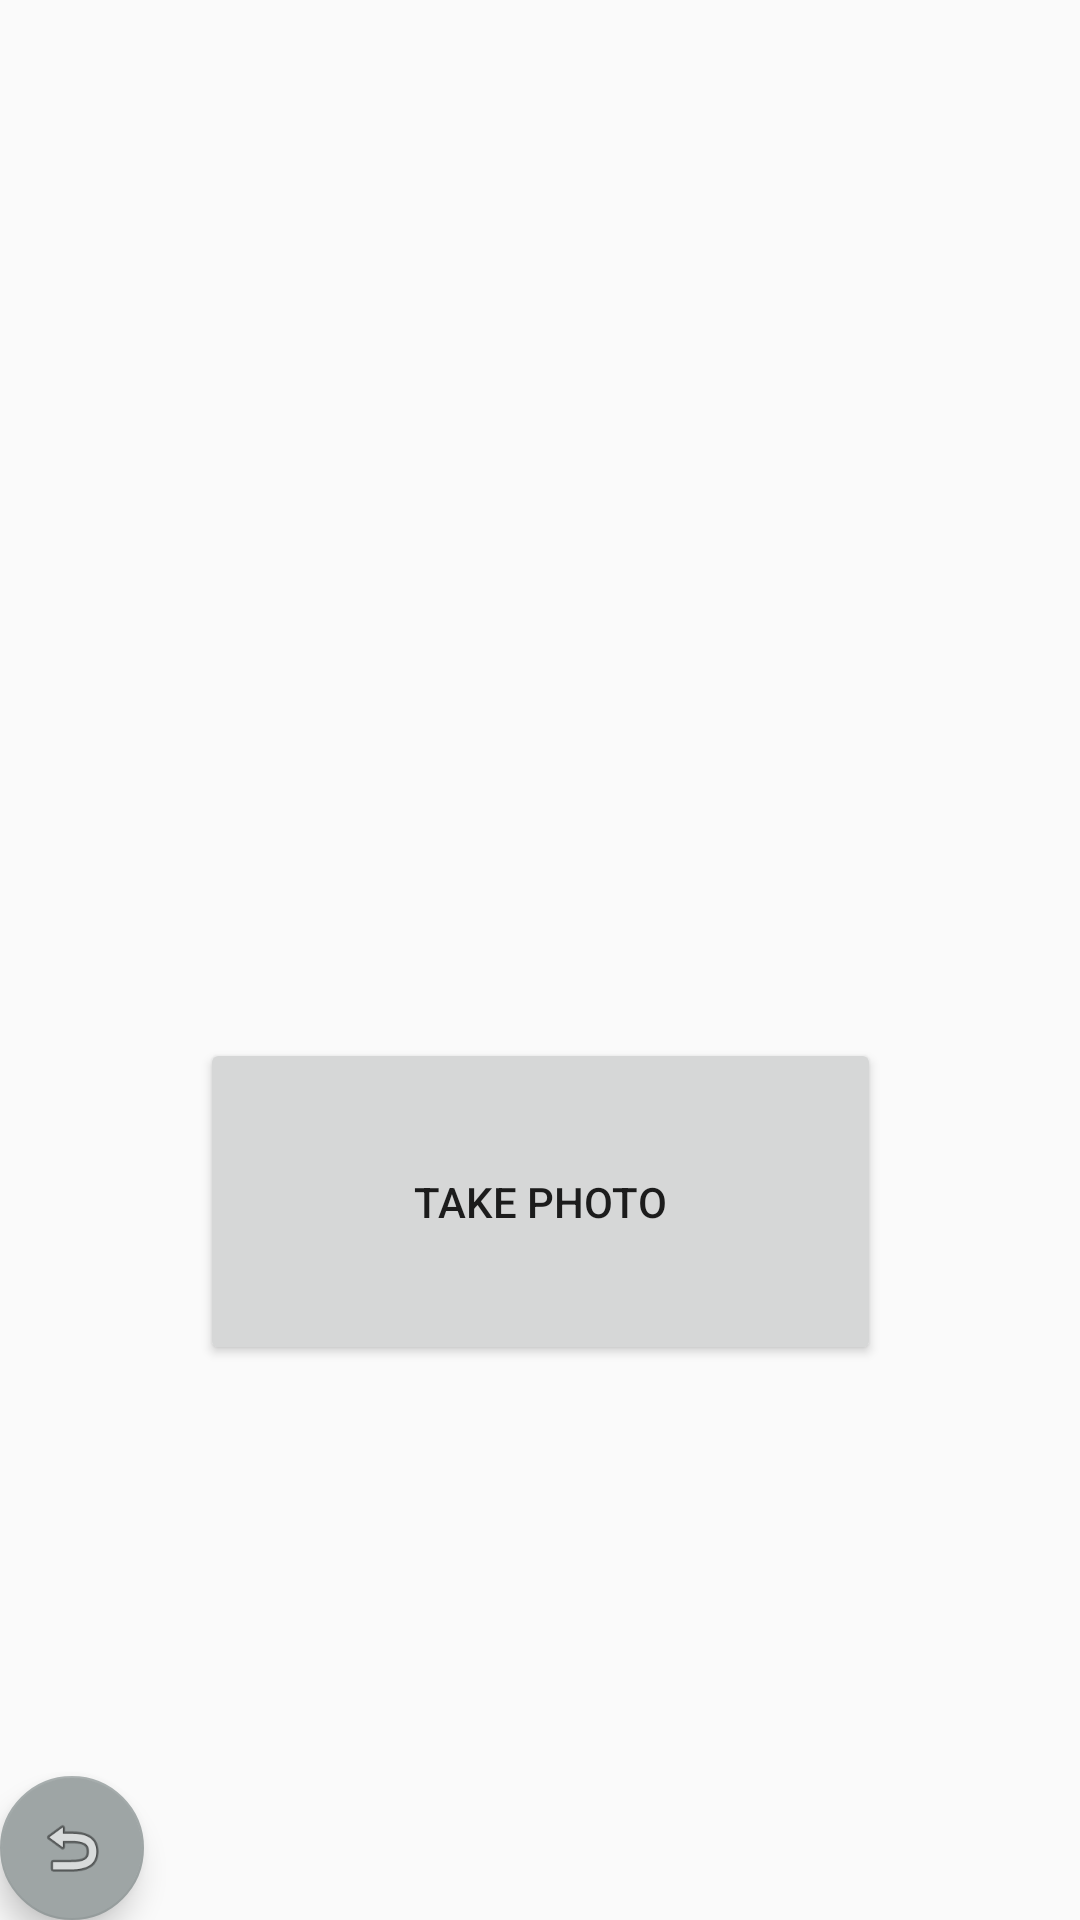

Icon click points for this 1080px×1920px phone screenshot, format (x,y):
revert: (72,1848)
